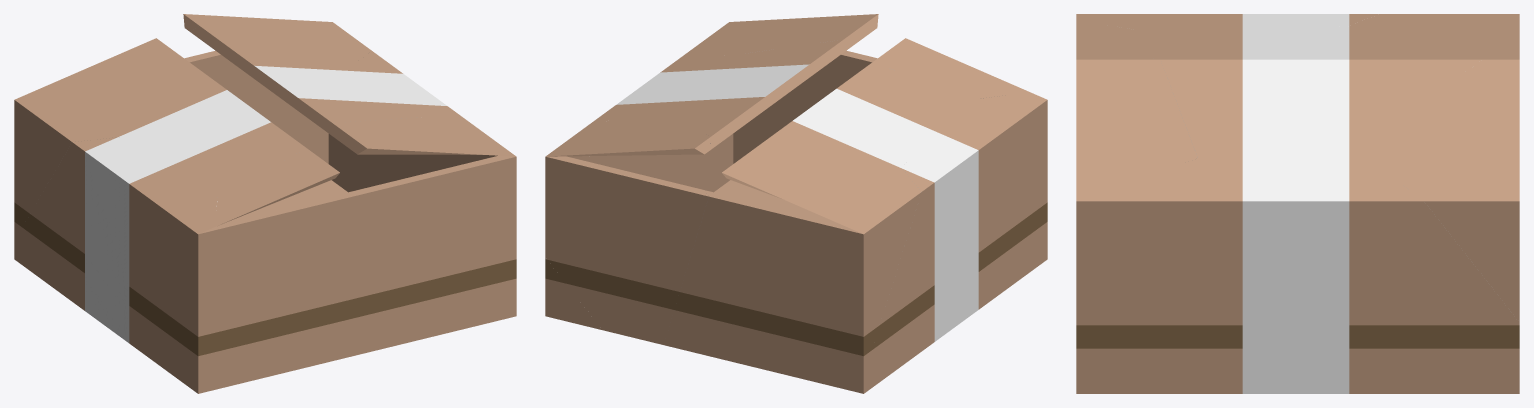
File: destructible-cartoonbox3-chunk.glb
3 views of the same model, side by side, from view 1: azimuth 30°, elevation 25°; view 2: azimuth 150°, elevation 25°; view 3: azimuth 270°, elevation 25° (orthographic). The views are drawn at different scales.
Parts seen in each view (by area): view 1: Cube.001_cell.003, Cube.001_cell.004, Cube.001_cell.005, Cube.001_cell, Cube.001_cell.001, Cube.001_cell.002; view 2: Cube.001_cell.001, Cube.001_cell.003, Cube.001_cell.002, Cube.001_cell, Cube.001_cell.005, Cube.001_cell.004; view 3: Cube.001_cell.005, Cube.001_cell, Cube.001_cell.002, Cube.001_cell.004, Cube.001_cell.001, Cube.001_cell.003.
Boxes of the visible parts, left/top/right/bottom form: Cube.001_cell.003: left=14, top=137, right=360, bottom=393; Cube.001_cell.004: left=215, top=117, right=516, bottom=343; Cube.001_cell.005: left=253, top=51, right=516, bottom=354; Cube.001_cell: left=120, top=57, right=419, bottom=197; Cube.001_cell.001: left=14, top=25, right=314, bottom=240; Cube.001_cell.002: left=183, top=14, right=371, bottom=149; Cube.001_cell.001: left=664, top=105, right=921, bottom=387; Cube.001_cell.003: left=840, top=92, right=1047, bottom=393; Cube.001_cell.002: left=545, top=111, right=710, bottom=344; Cube.001_cell: left=639, top=39, right=979, bottom=166; Cube.001_cell.005: left=545, top=23, right=834, bottom=329; Cube.001_cell.004: left=724, top=14, right=1029, bottom=113; Cube.001_cell.005: left=1076, top=158, right=1519, bottom=393; Cube.001_cell: left=1135, top=26, right=1383, bottom=167; Cube.001_cell.002: left=1380, top=59, right=1519, bottom=322; Cube.001_cell.004: left=1076, top=20, right=1197, bottom=202; Cube.001_cell.001: left=1348, top=14, right=1519, bottom=132; Cube.001_cell.003: left=1076, top=14, right=1379, bottom=29.
Bounding box in the file's own units: 2 × 1.23 × 2.
